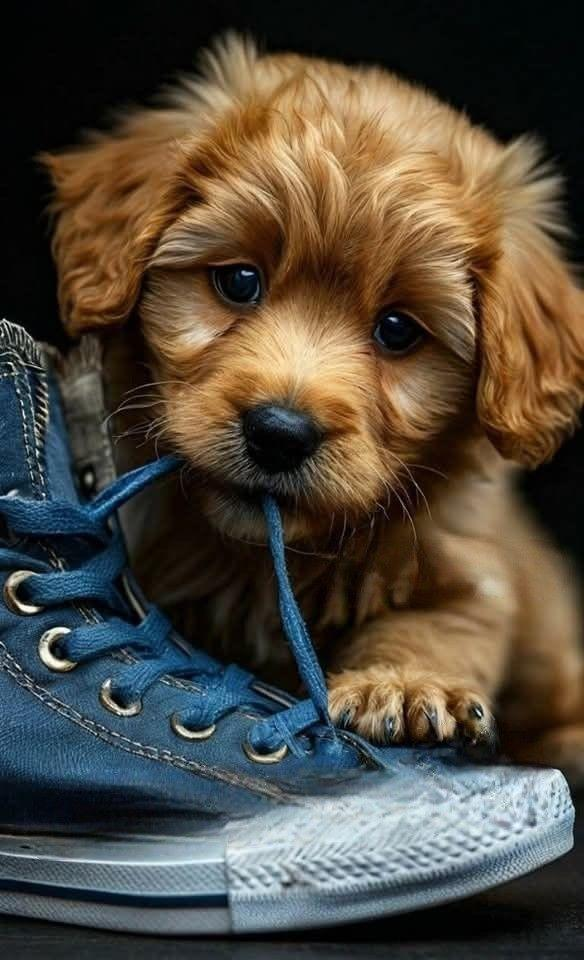puppy-dog: (39, 29, 584, 761)
